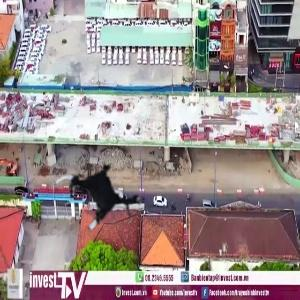drone: (50, 150, 147, 247)
